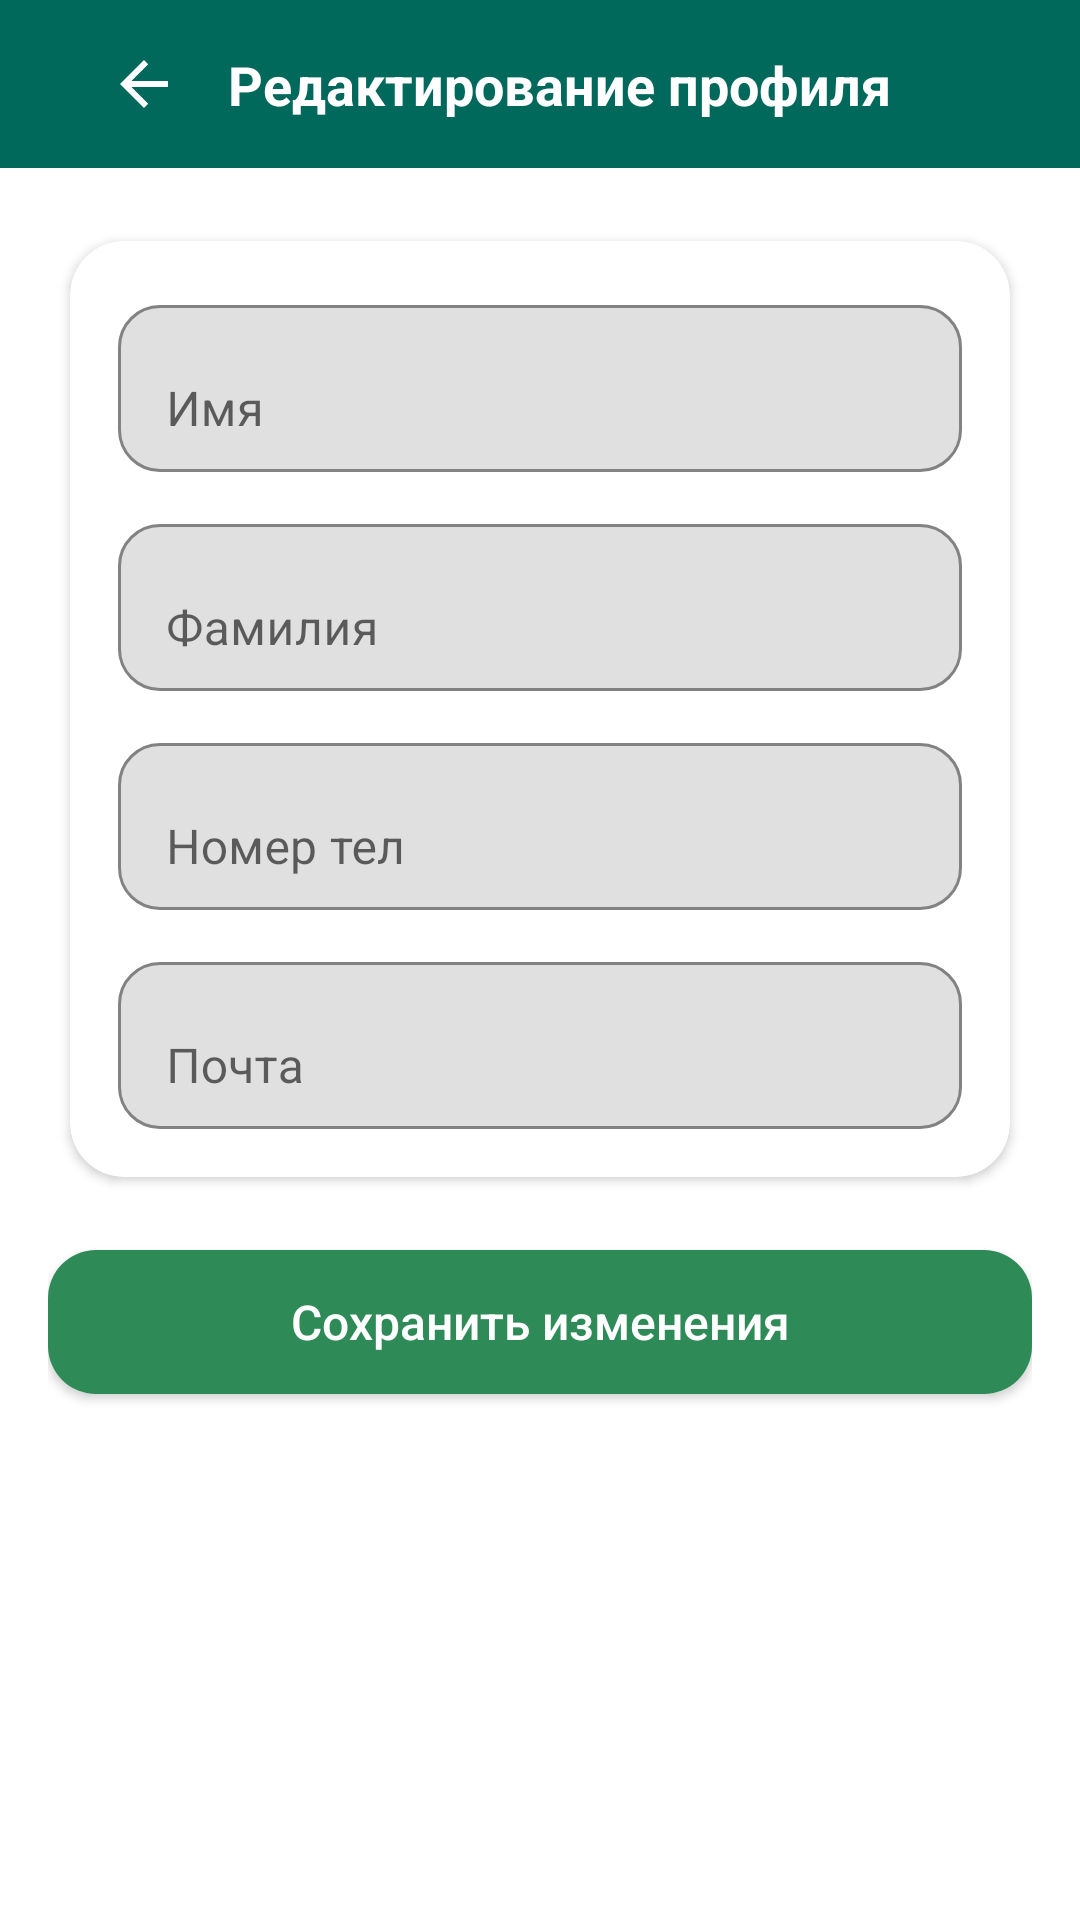

Screen size 1080w x 1920h. Icon name, then its box in pixels as (x1, y1, x2, y2):
back: (120, 60, 168, 108)
